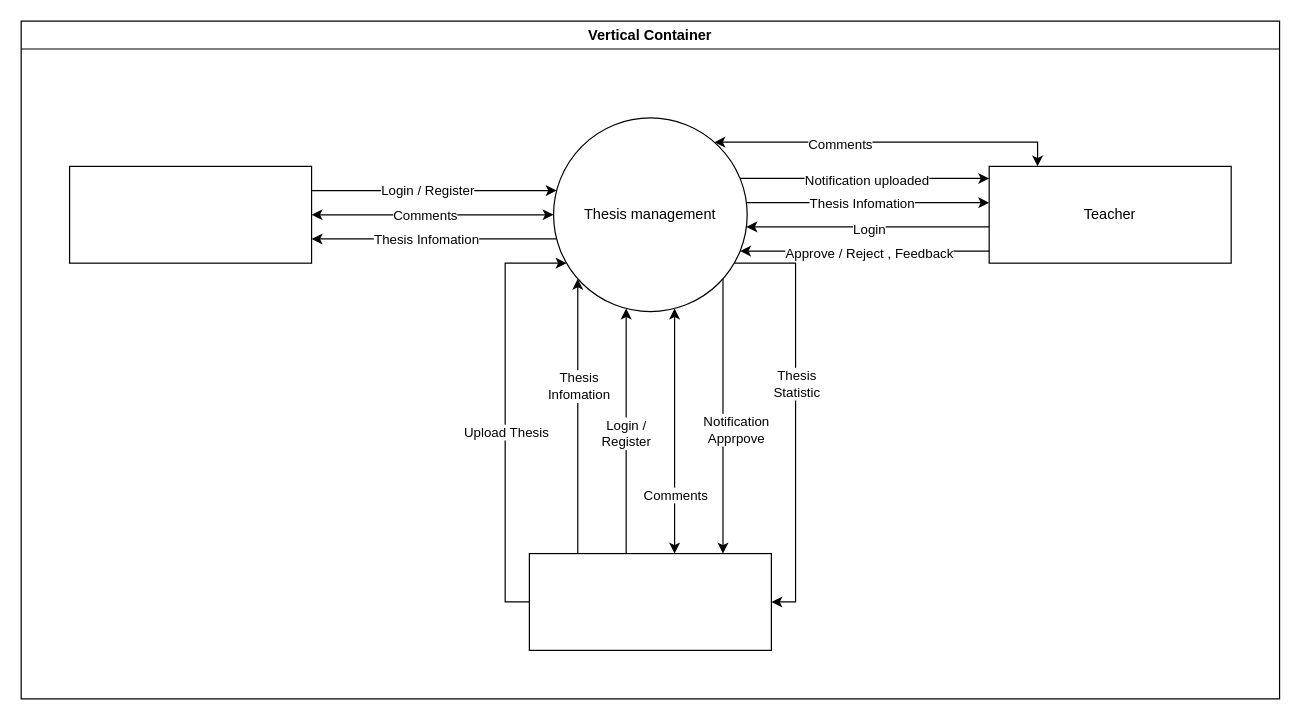
Some shapes in this 1301 by 720 pixel diagram are drawn without their labels. The centre of each missing label's shape, as x and y in pixels:
Student: point 190,214
User: point 649,601
